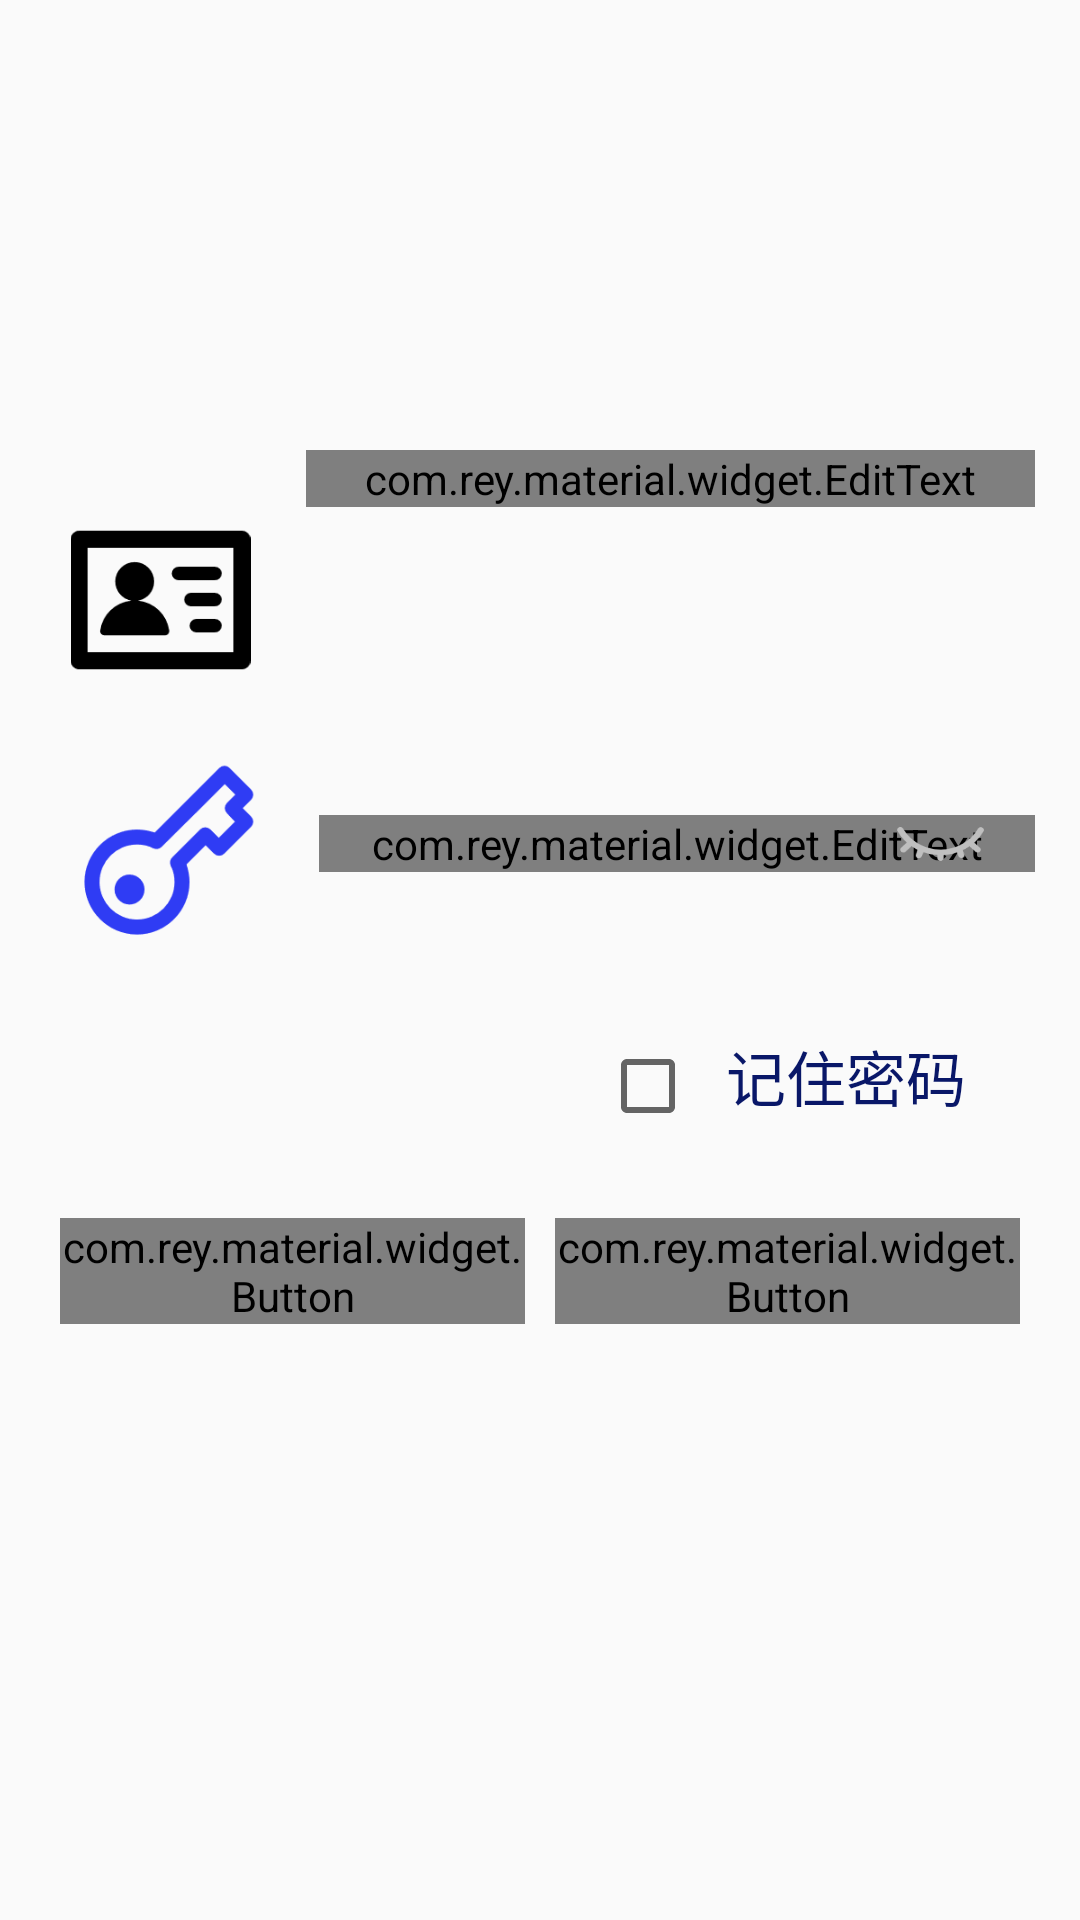

Screen size 1080px x 1920px. Icon name, then its center in pixels as (x,y):
account: (161,600)
